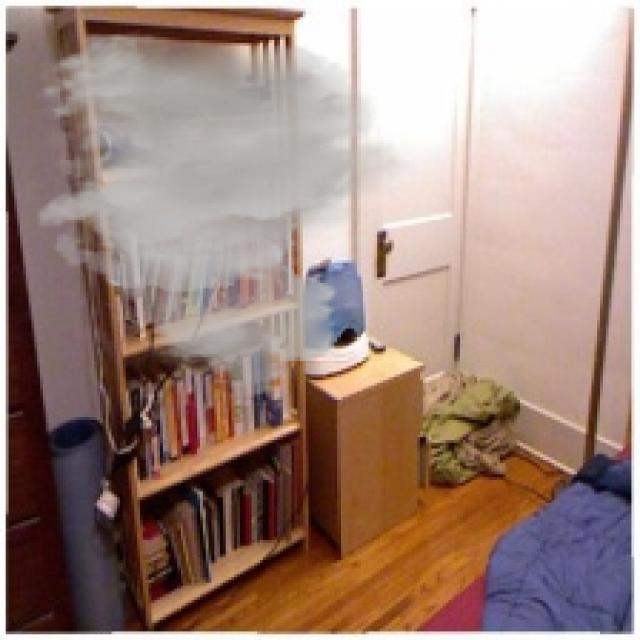Smoke: (34, 31, 420, 408)
